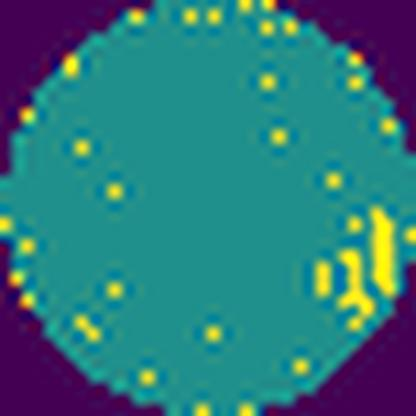Loc: (334, 246, 375, 320), (372, 206, 398, 294)
